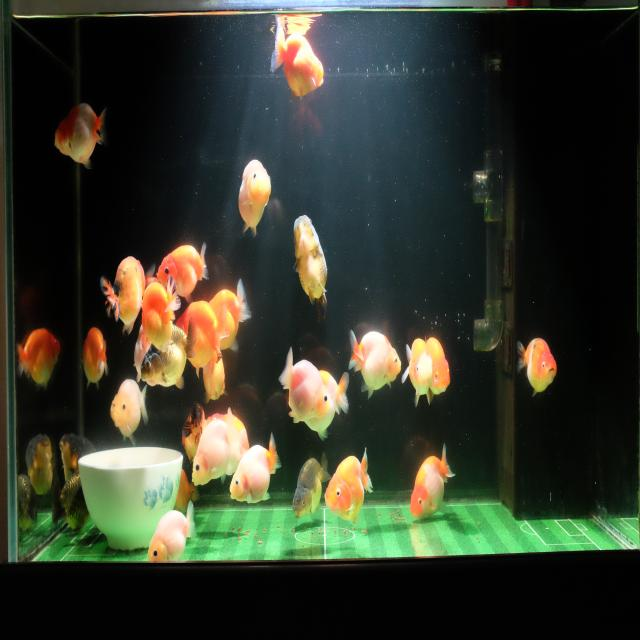Tilapia: (276, 343, 331, 431), (174, 294, 229, 379), (292, 212, 331, 324), (347, 324, 402, 402), (270, 22, 324, 101), (407, 441, 456, 528), (227, 432, 283, 508), (139, 319, 198, 390), (190, 406, 238, 491), (99, 252, 147, 337), (324, 447, 374, 528), (53, 99, 107, 171), (303, 368, 350, 443), (208, 276, 253, 354), (16, 322, 62, 398), (154, 238, 210, 299), (142, 272, 181, 356), (236, 156, 272, 242), (148, 499, 197, 562), (108, 375, 150, 447), (290, 450, 331, 523), (514, 334, 558, 400), (400, 331, 434, 411), (56, 426, 101, 481), (22, 431, 54, 497), (80, 324, 109, 394), (424, 332, 451, 401), (200, 346, 229, 406)
